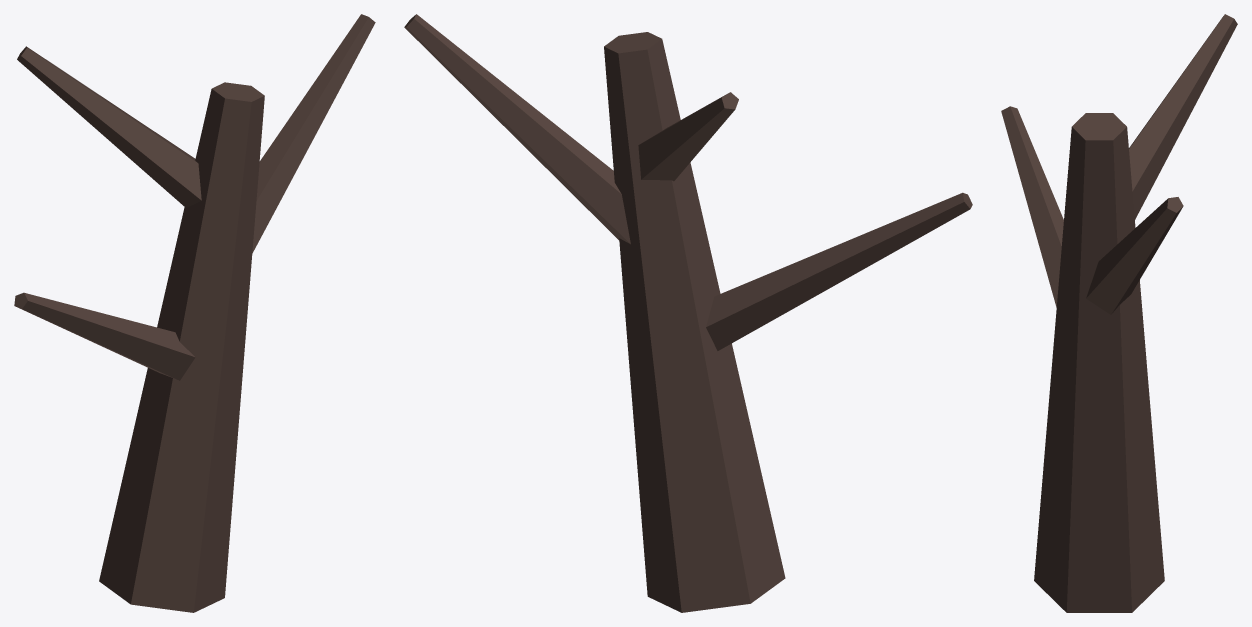
File: EXTG_SouthThorn_00.glb
3 views of the same model, side by side, from view 1: azimuth 30°, elevation 25°; view 2: azimuth 150°, elevation 25°; view 3: azimuth 270°, elevation 25° (orthographic). The views are drawn at different scales.
Parts seen in each view (by area): view 1: EXTG_SouthThorn_00; view 2: EXTG_SouthThorn_00; view 3: EXTG_SouthThorn_00.
Part boxes in pixels (<box>): EXTG_SouthThorn_00: <box>14,14,375,612</box>; EXTG_SouthThorn_00: <box>404,14,972,612</box>; EXTG_SouthThorn_00: <box>1001,14,1237,612</box>.
Bounding box in the file's own units: 1.03 × 1.18 × 0.4705.
